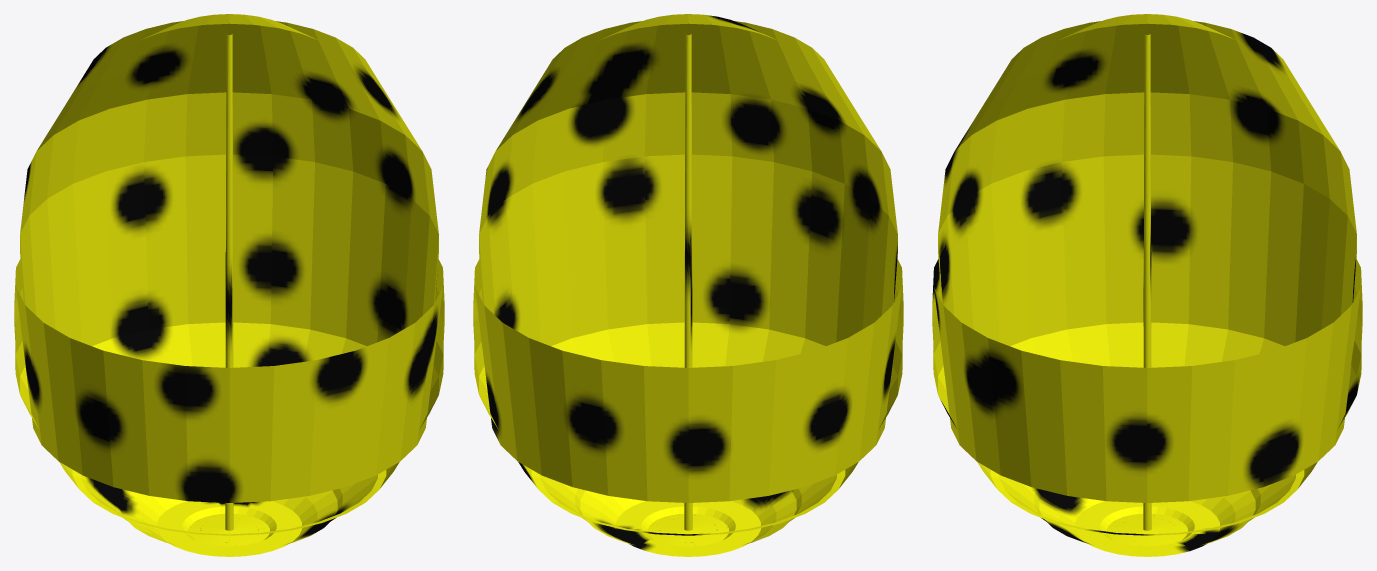
3 views of the same model, side by side, from view 1: azimuth 30°, elevation 25°; view 2: azimuth 150°, elevation 25°; view 3: azimuth 270°, elevation 25° (orthographic).
Parts seen in each view (by area): view 1: algeomath; view 2: algeomath; view 3: algeomath.
Part boxes in pixels (x1=…): algeomath: x1=14, y1=14, x2=444, y2=556; algeomath: x1=473, y1=14, x2=903, y2=556; algeomath: x1=932, y1=14, x2=1362, y2=556.
Bounding box in the file's own units: 4.8 × 6.09 × 4.78.
1 material, 1 textured.
